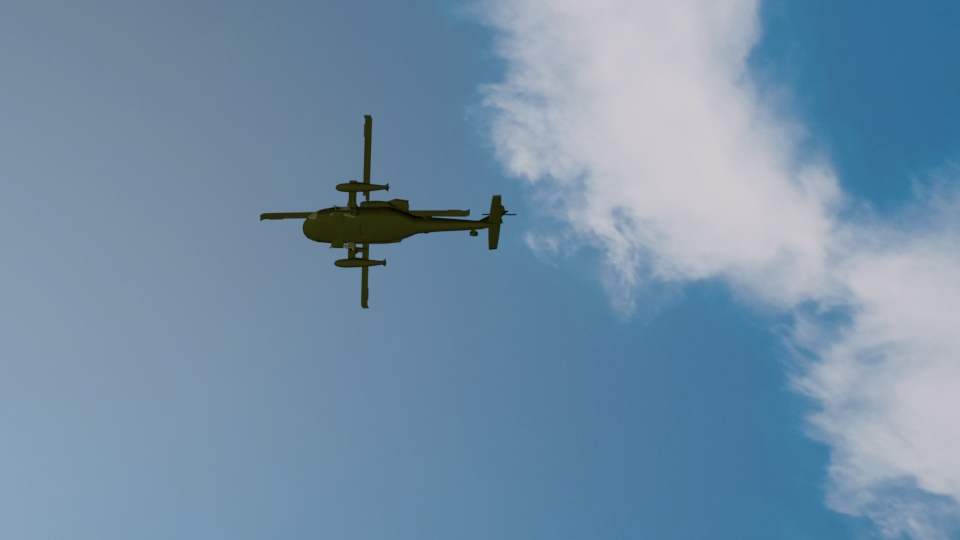heli: (258, 114, 512, 311)
